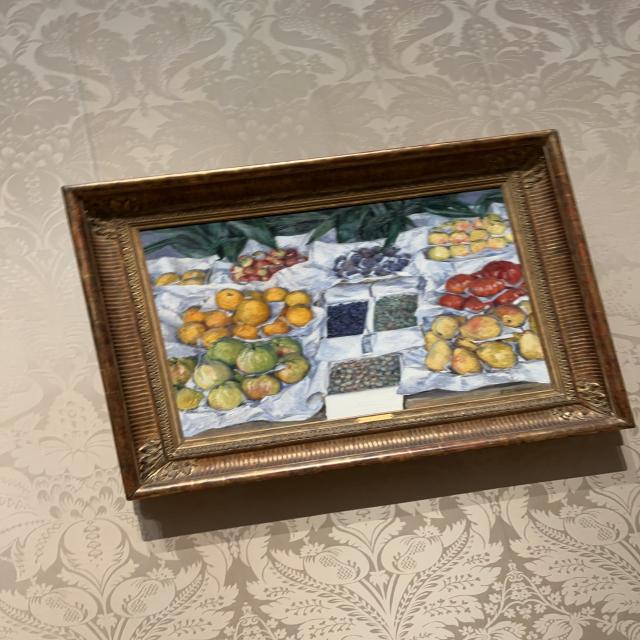fruits: (136, 186, 552, 440)
